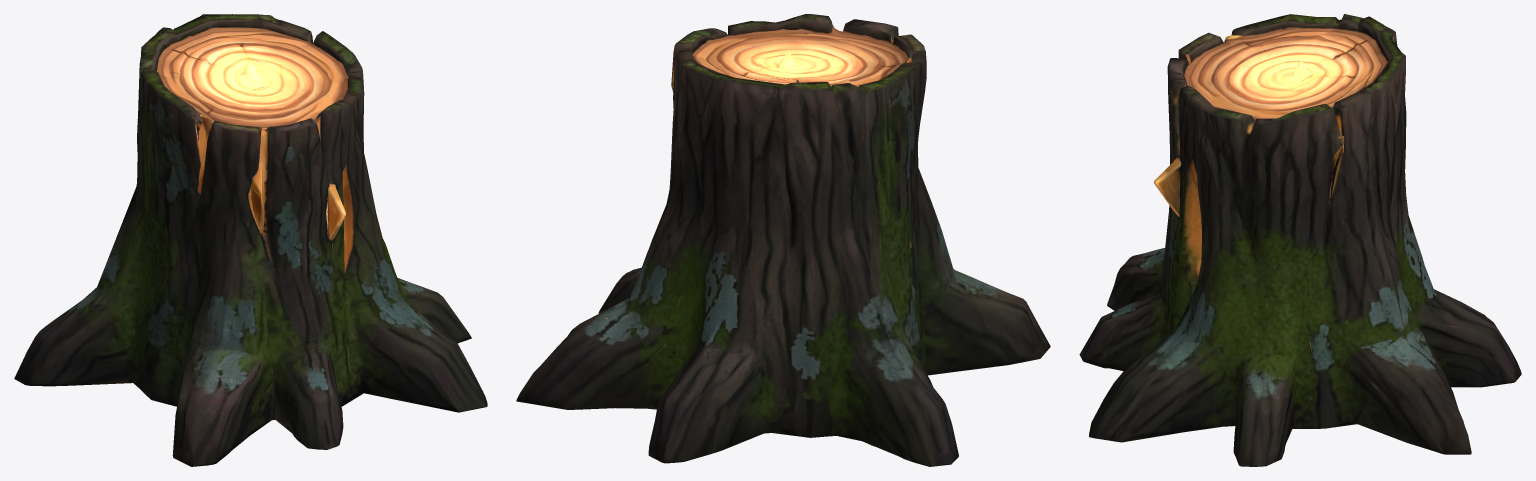
File: mesh_heartwood_stump_a.glb
3 renders of one model, left to right at view 1: azimuth 30°, elevation 25°; view 2: azimuth 150°, elevation 25°; view 3: azimuth 270°, elevation 25°, orthographic. The views are drawn at different scales.
Visible parts, largest first — view 1: mesh_heartwood_stump_a__mesh_heartwood_stump_a__Mesh_0; view 2: mesh_heartwood_stump_a__mesh_heartwood_stump_a__Mesh_0; view 3: mesh_heartwood_stump_a__mesh_heartwood_stump_a__Mesh_0.
Boxes of the visible parts, x1,y1,x2,y2 form: mesh_heartwood_stump_a__mesh_heartwood_stump_a__Mesh_0: (14,14,487,466); mesh_heartwood_stump_a__mesh_heartwood_stump_a__Mesh_0: (516,14,1050,466); mesh_heartwood_stump_a__mesh_heartwood_stump_a__Mesh_0: (1079,14,1521,466).
Bounding box in the file's own units: 7 × 5.39 × 6.76.
Materials: 1 (1 with a texture image).
